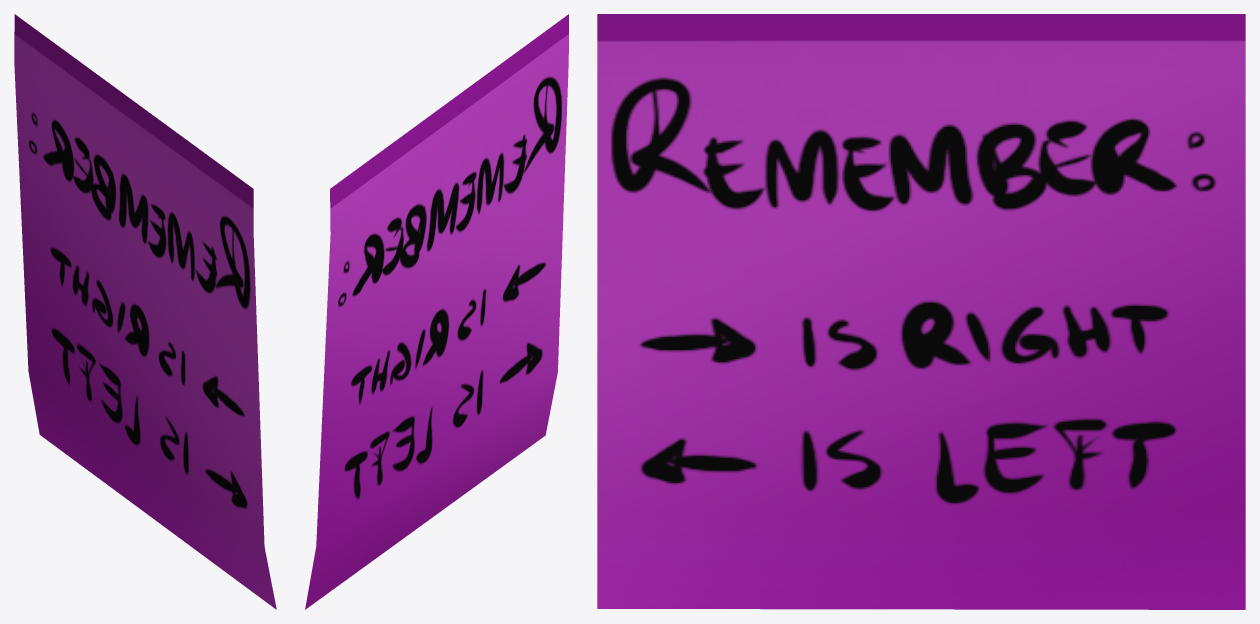
The model's file is Post-it.fbx.
3 renders of one model, left to right at view 1: azimuth 30°, elevation 25°; view 2: azimuth 150°, elevation 25°; view 3: azimuth 270°, elevation 25°, orthographic. The views are drawn at different scales.
Parts seen in each view (by area): view 1: pPlane17; view 2: pPlane17; view 3: pPlane17.
Boxes of the visible parts, box(x1,y1,x2,y2) form: pPlane17: box(14, 14, 276, 609); pPlane17: box(305, 14, 568, 609); pPlane17: box(597, 14, 1245, 609).
Bounding box in the file's own units: 0.6166 × 9.86 × 10.
